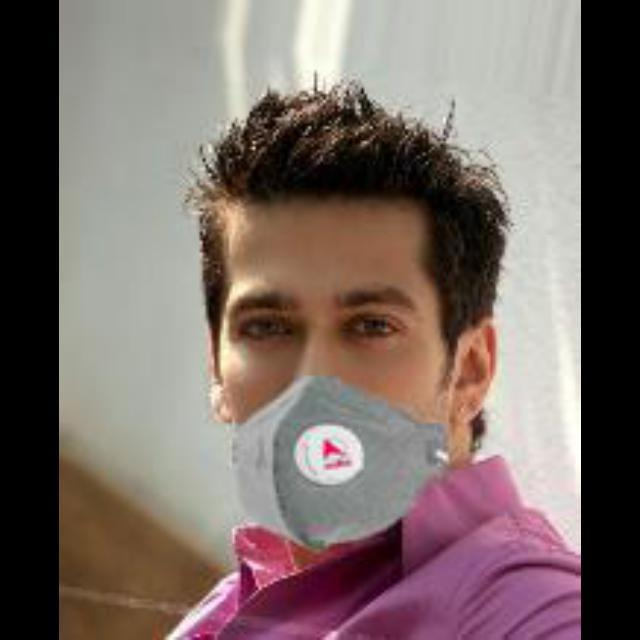suspicion: (178, 111, 480, 533)
